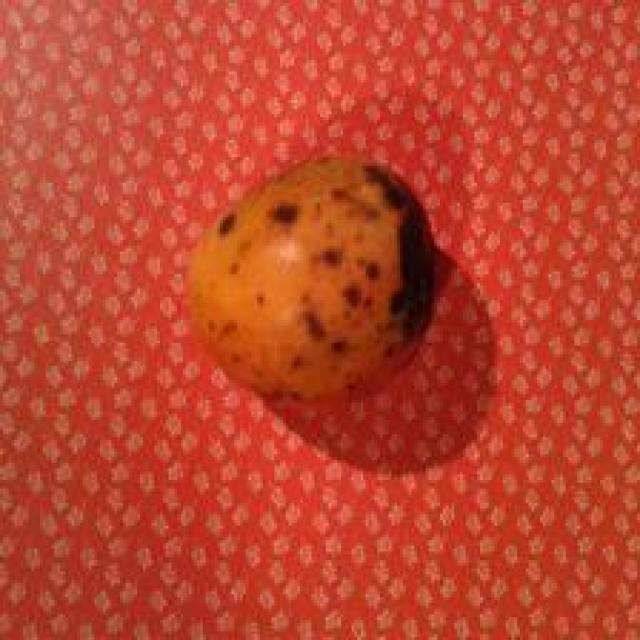Wet Waste: (186, 156, 444, 414)
